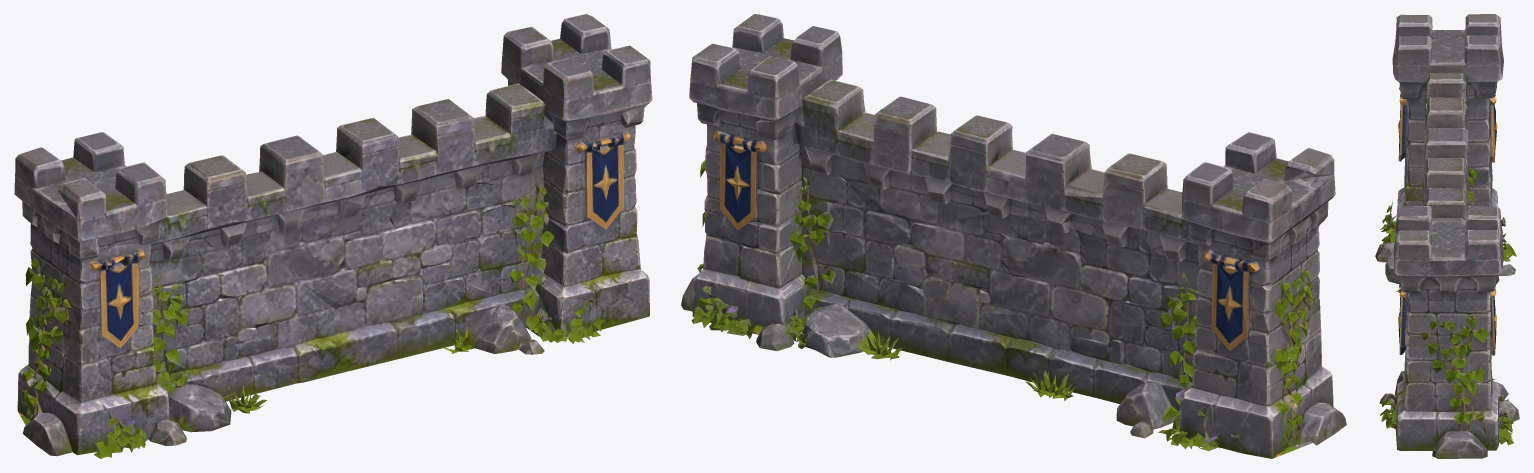
File: battlements_b5.glb
The picture shows the model from 3 angles, left to right: view 1: azimuth 30°, elevation 25°; view 2: azimuth 150°, elevation 25°; view 3: azimuth 270°, elevation 25°; orthographic projection. The views are drawn at different scales.
Parts seen in each view (by area): view 1: output_unwrapped; view 2: output_unwrapped; view 3: output_unwrapped.
Boxes of the visible parts, left/top/right/bottom form: output_unwrapped: left=14, top=14, right=652, bottom=458; output_unwrapped: left=681, top=14, right=1346, bottom=458; output_unwrapped: left=1375, top=14, right=1519, bottom=458.
Size of the model in its own units: 1.9 by 0.773 by 0.4756.
1 material, 1 textured.
